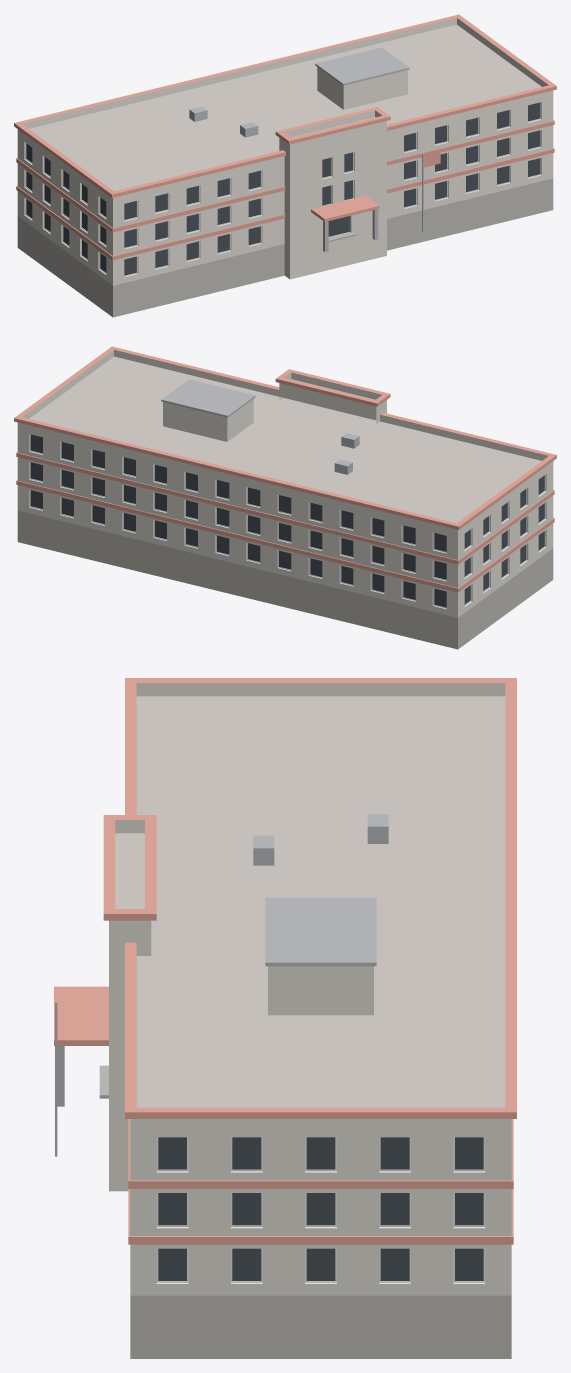
File: public_flat_3_xl.glb
3 views of the same model, one above another, from view 1: azimuth 30°, elevation 25°; view 2: azimuth 150°, elevation 25°; view 3: azimuth 270°, elevation 25° (orthographic). The views are drawn at different scales.
Visible parts, largest first — view 1: public_flat_3_xl; view 2: public_flat_3_xl; view 3: public_flat_3_xl.
Boxes of the visible parts, <box> form: public_flat_3_xl: <box>14,14,556,317</box>; public_flat_3_xl: <box>14,346,556,649</box>; public_flat_3_xl: <box>54,678,516,1358</box>.
Size of the model in its own units: 48.5 by 15.05 by 21.85.
